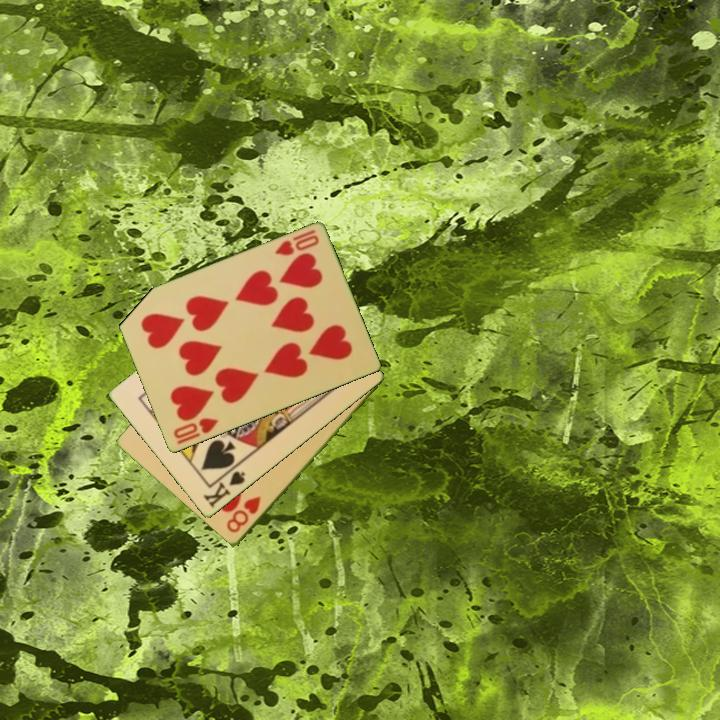10h: (170, 415, 221, 448), (271, 226, 322, 259)
8h: (223, 493, 264, 536)
Ks: (200, 462, 248, 511)
